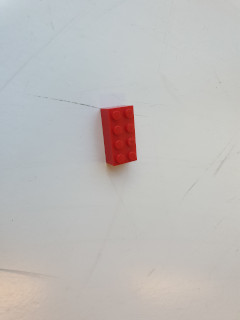2x4 red: (98, 104, 142, 166)
